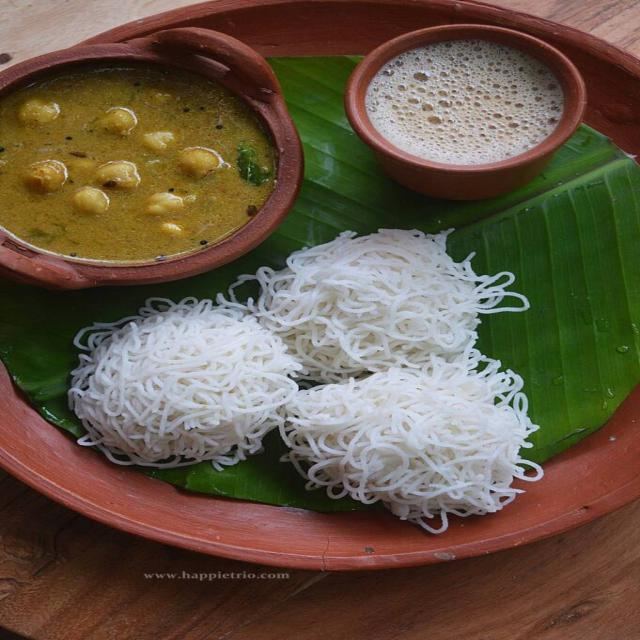IDIYAPPAM: (282, 355, 532, 514), (70, 309, 294, 467), (261, 236, 489, 380)
KURMA: (0, 67, 273, 262)
